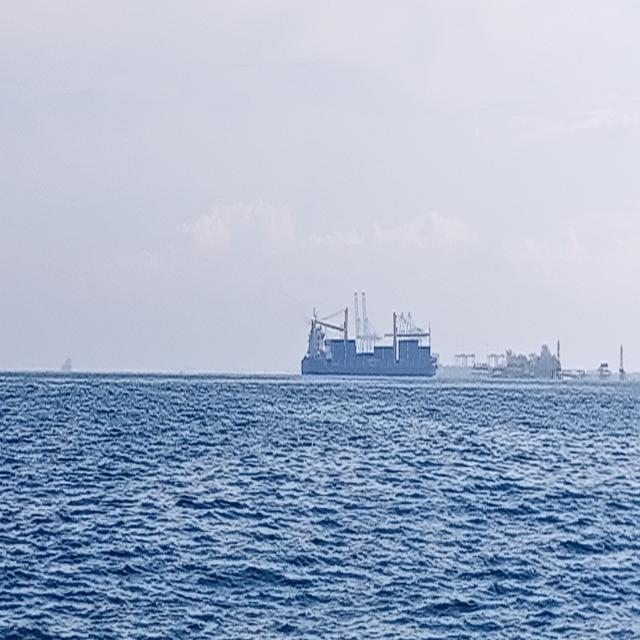PassengerShip: (284, 260, 458, 410)
